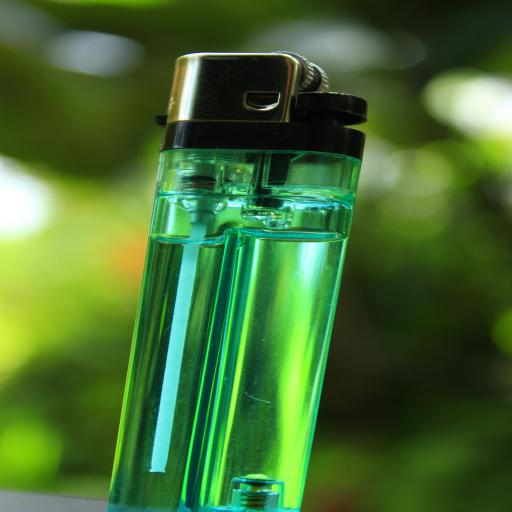lighter: (122, 40, 417, 512)
